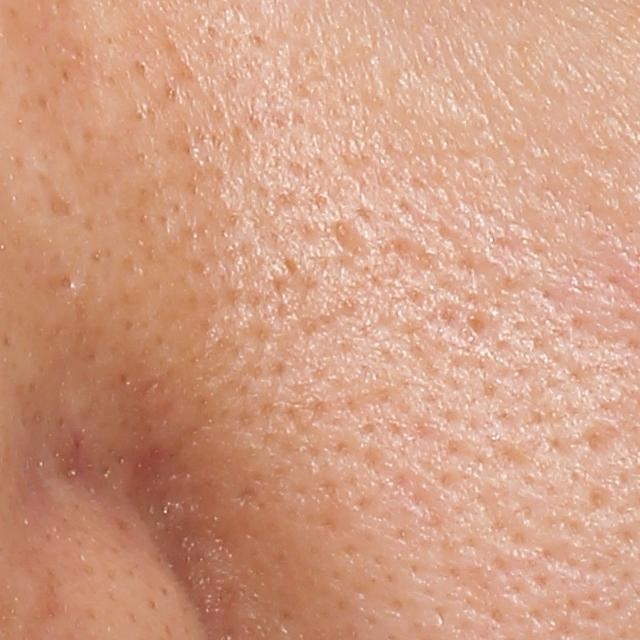atrophic_scar: (375, 232, 442, 278), (331, 219, 366, 261), (585, 424, 620, 454), (48, 190, 67, 218)
